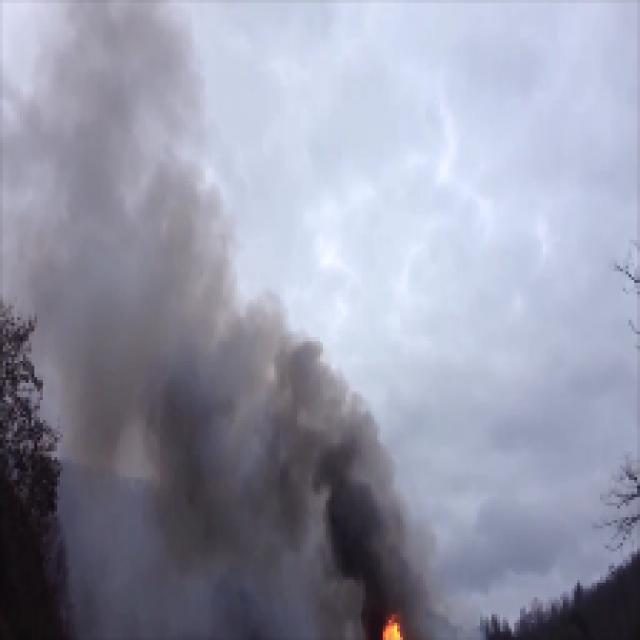fire: (381, 616, 405, 640)
smoke: (153, 330, 330, 521), (331, 459, 398, 606)
